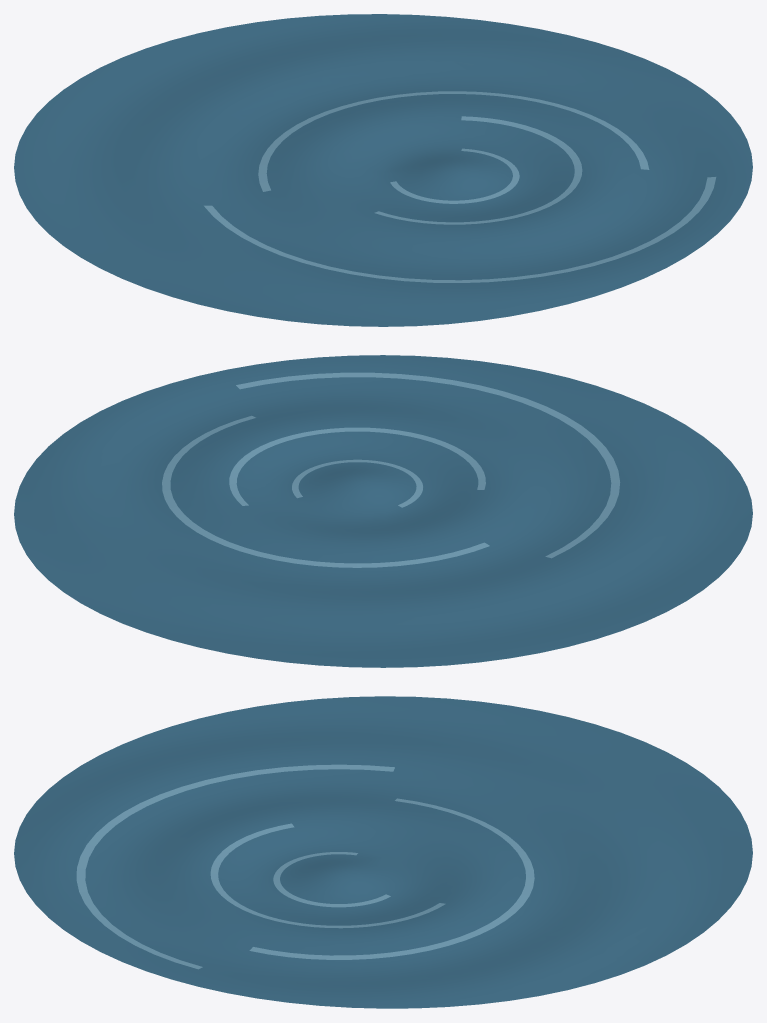
File: wasser-stufe1.glb
3 renders of one model, top to bottom at view 1: azimuth 30°, elevation 25°; view 2: azimuth 150°, elevation 25°; view 3: azimuth 270°, elevation 25°, orthographic.
Visible parts, largest first — view 1: wasser_flaeche, wasser_ringe; view 2: wasser_flaeche, wasser_ringe; view 3: wasser_flaeche, wasser_ringe.
Part boxes in pixels (x1,y1,x2,y2): wasser_flaeche: [14, 14, 752, 326]; wasser_ringe: [204, 91, 716, 282]; wasser_flaeche: [14, 355, 752, 667]; wasser_ringe: [162, 372, 620, 567]; wasser_flaeche: [14, 696, 752, 1008]; wasser_ringe: [76, 764, 534, 969].
Bounding box in the file's own units: 33.2 × 0.3915 × 33.2.
